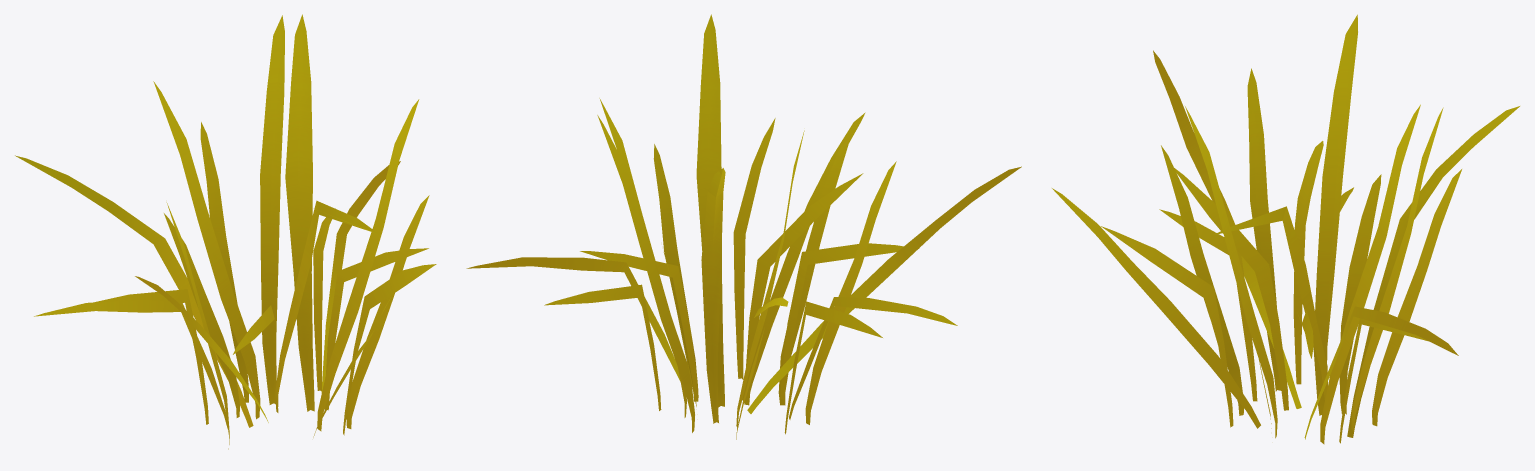
File: Grass_Wispy_Short.glb
The picture shows the model from 3 angles, left to right: view 1: azimuth 30°, elevation 25°; view 2: azimuth 150°, elevation 25°; view 3: azimuth 270°, elevation 25°; orthographic projection. The views are drawn at different scales.
Visible parts, largest first — view 1: Grass_Wispy_Short; view 2: Grass_Wispy_Short; view 3: Grass_Wispy_Short.
Part boxes in pixels (x1,y1,x2,y2): Grass_Wispy_Short: (15, 14, 436, 449); Grass_Wispy_Short: (466, 14, 1021, 439); Grass_Wispy_Short: (1052, 14, 1519, 444).
Bounding box in the file's own units: 1.32 × 1.07 × 1.21.
1 material, 1 textured.
